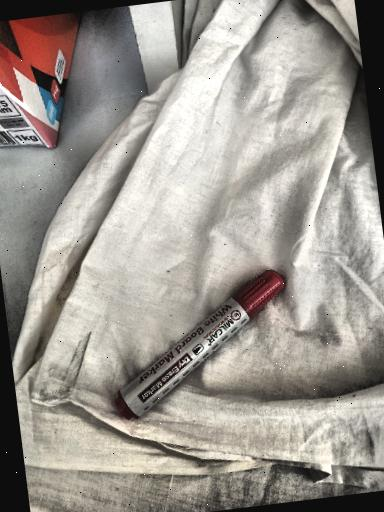marcador rojo: (115, 270, 283, 419)
